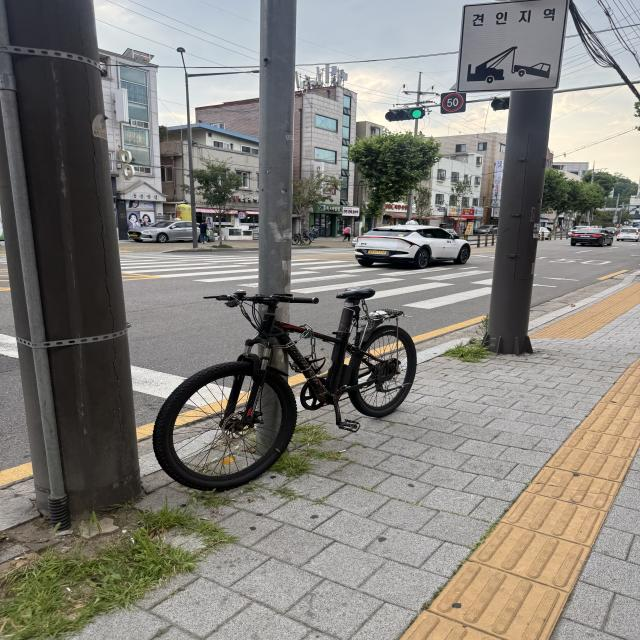bicycle: (142, 282, 460, 504)
